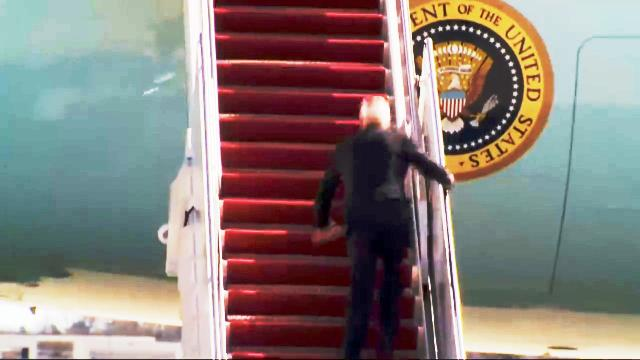berjalan: (306, 94, 454, 360)
